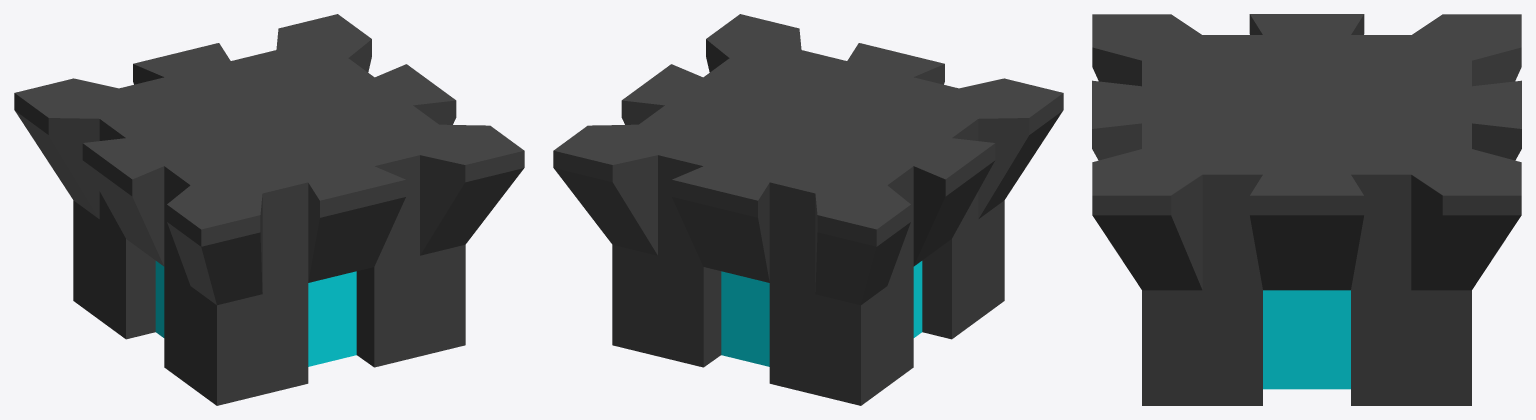
Rendered from Platform Pillar T.fbx.
3 views of the same model, side by side, from view 1: azimuth 30°, elevation 25°; view 2: azimuth 150°, elevation 25°; view 3: azimuth 270°, elevation 25° (orthographic). The views are drawn at different scales.
Visible parts, largest first — view 1: Pillar T; view 2: Pillar T; view 3: Pillar T.
Part boxes in pixels (x1,y1,x2,y2): Pillar T: (14,14,524,405); Pillar T: (553,14,1063,405); Pillar T: (1092,14,1521,405).
Bounding box in the file's own units: 168 × 100 × 168.
